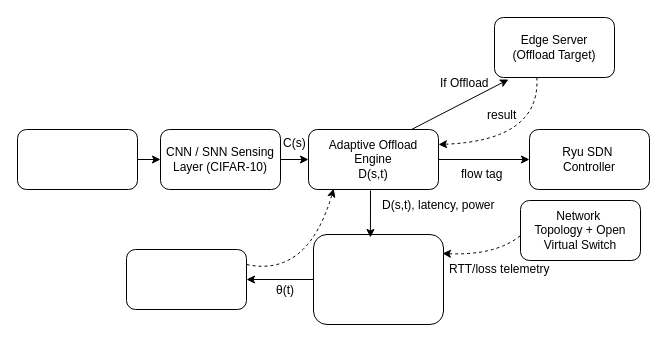
Some shapes in this 667 by 344 pixel diagram are drawn without their labels. The centre of each missing label's shape, as x and y in pixels:
AIoT Sensor Input Stream: the point at 77,159
Feedback Loop update θ(t) (window N = 10): the point at 186,279
Telemetry Memory: the point at 378,279
